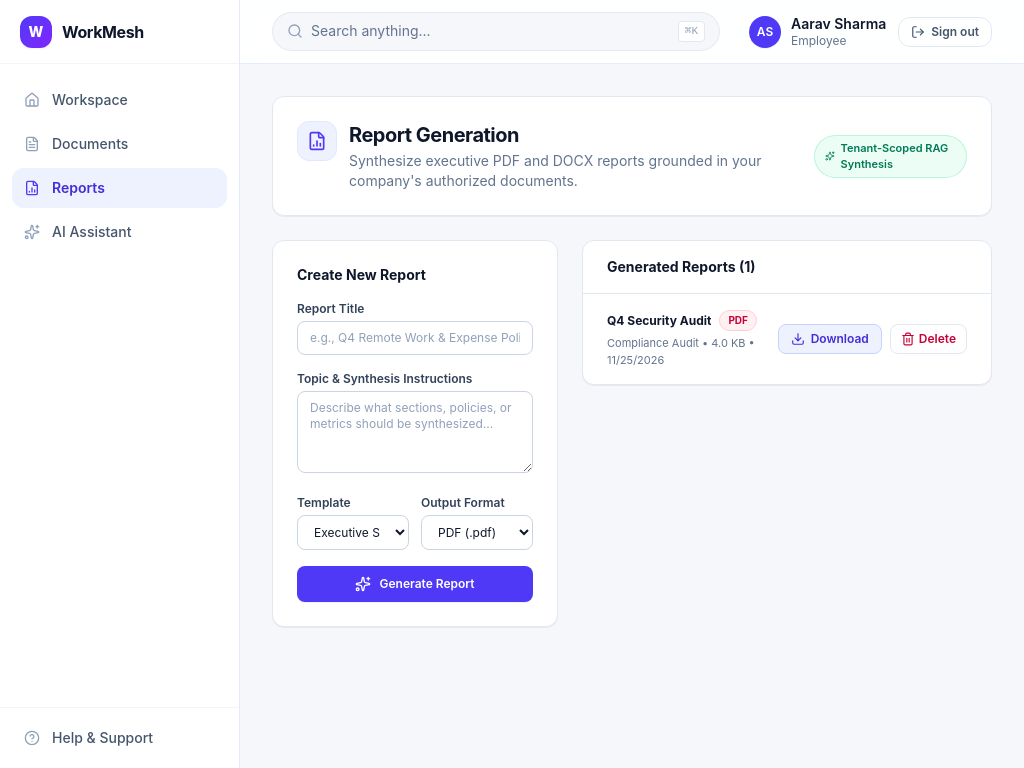
Test: ReportsPage › removes report from list when clicking Delete
Expected: the text "Q4 Security Audit" is shown, x1=607 y1=312 x2=711 y2=328
Click the button with aria-label "Delete Q4 Security Audit": click(928, 339) x1=890 y1=324 x2=967 y2=354
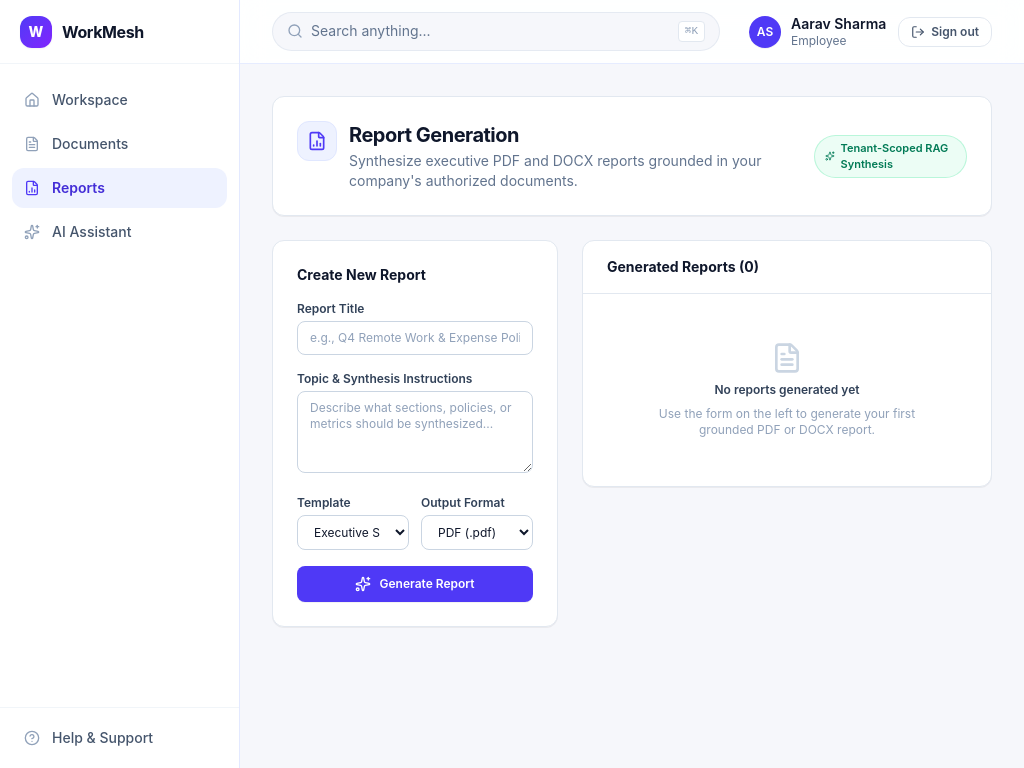
Result: the text "Q4 Security Audit" is gone
